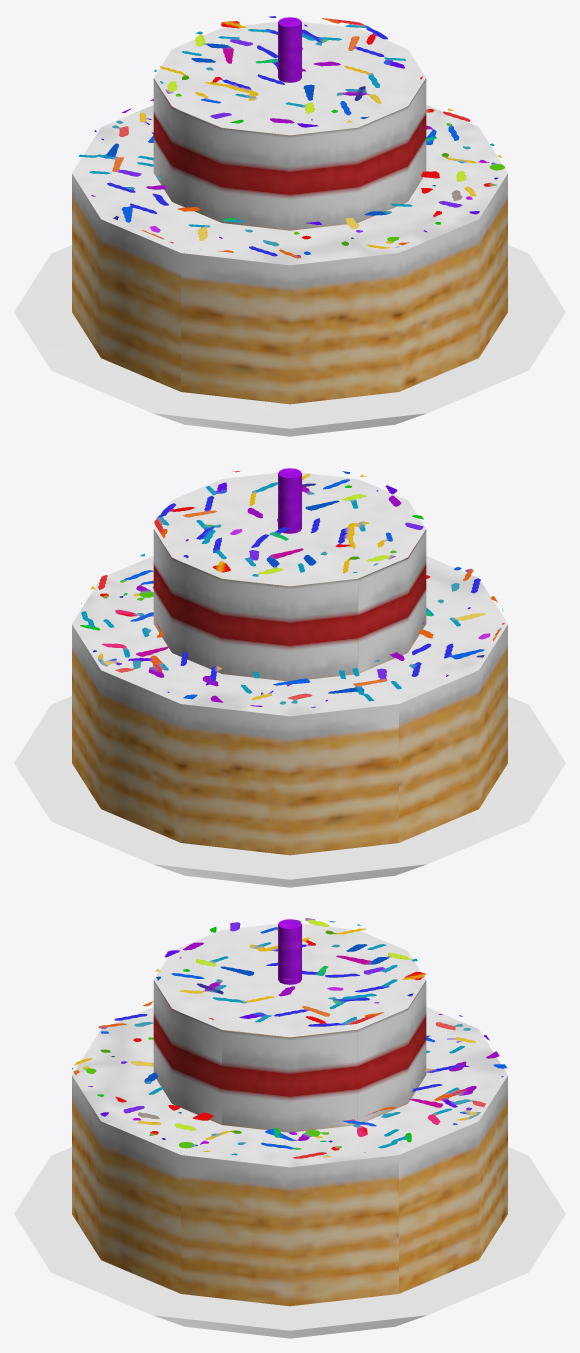
File: Cake.fbx
The picture shows the model from 3 angles, top to bottom: view 1: azimuth 30°, elevation 25°; view 2: azimuth 150°, elevation 25°; view 3: azimuth 270°, elevation 25°; orthographic projection.
Parts seen in each view (by area): view 1: Cake; view 2: Cake; view 3: Cake.
Boxes of the visible parts, x1,y1,x2,y2 form: Cake: (14,16,565,436); Cake: (14,468,565,887); Cake: (14,918,565,1338).
Size of the model in its own units: 0.2293 by 0.1492 by 0.2293.
